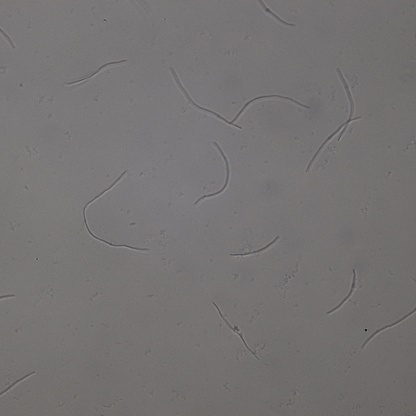Sensitive: (82, 170, 148, 253), (169, 67, 241, 129), (307, 117, 361, 169), (213, 302, 258, 358), (193, 141, 230, 206), (232, 92, 309, 123), (363, 308, 416, 347), (68, 59, 127, 87), (336, 68, 356, 146), (328, 269, 359, 315), (231, 235, 280, 259), (253, 1, 295, 27)
